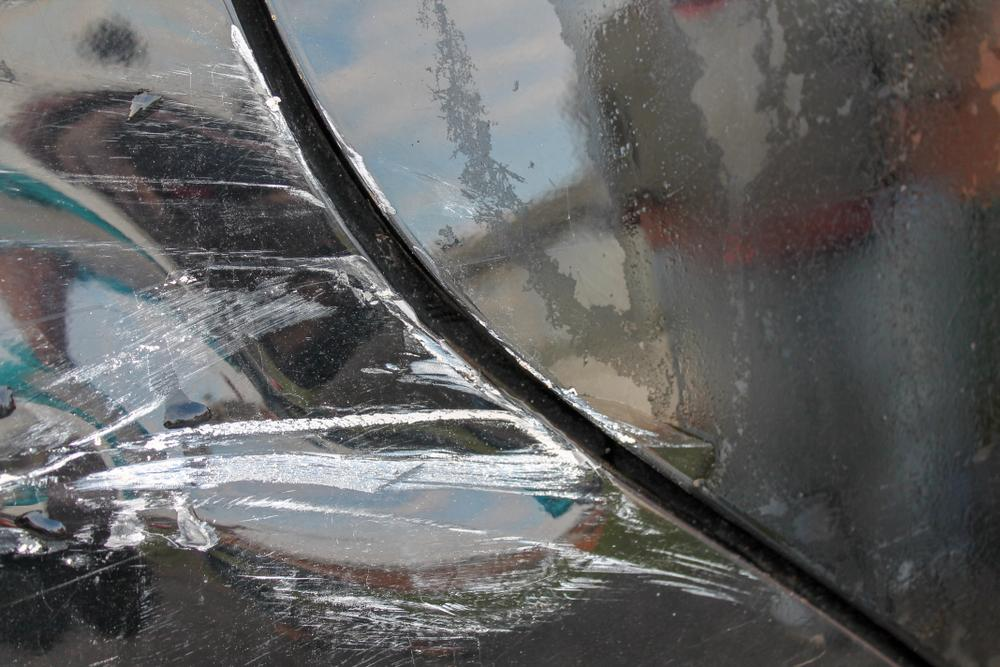dent: (0, 115, 604, 587)
scratch: (257, 492, 762, 667), (145, 25, 309, 181)
